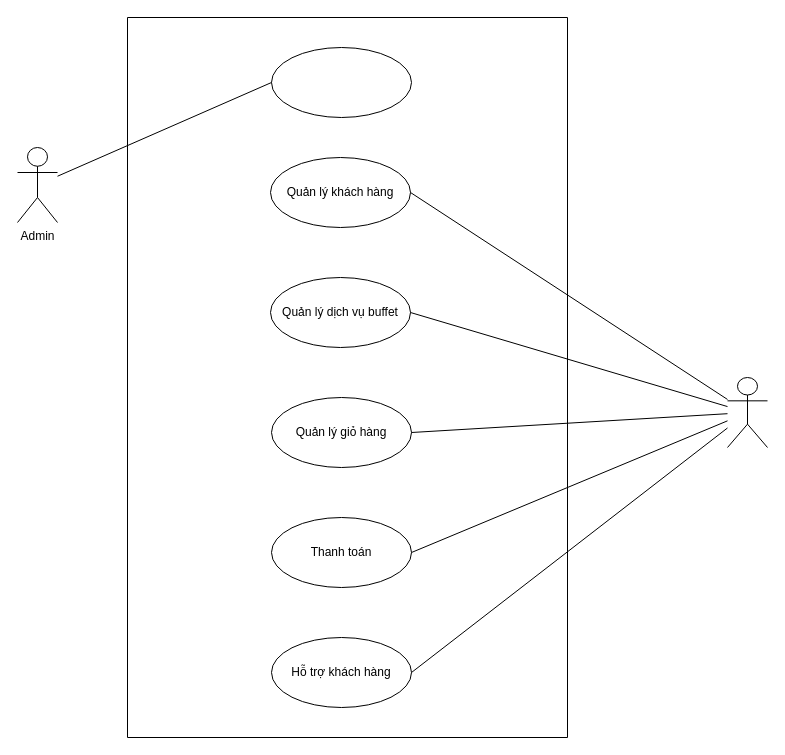
Some shapes in this 785 by 755 pixel diagram are drawn without their labels. Each missing label, with the box of its shape:
Quản trị hệ thống: (270, 46, 412, 118)
User: (726, 376, 768, 448)
